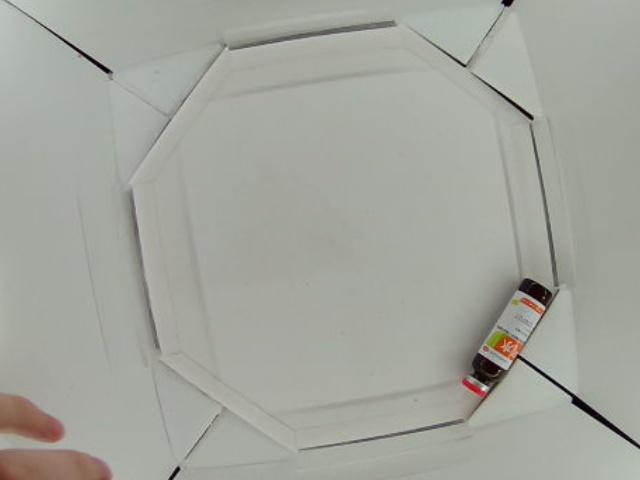Medicine: (464, 278, 553, 394)
